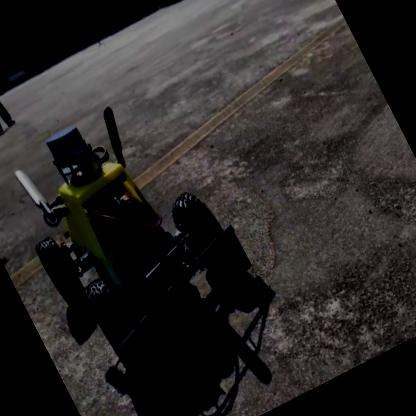mushr_car: (0, 72, 282, 402)
